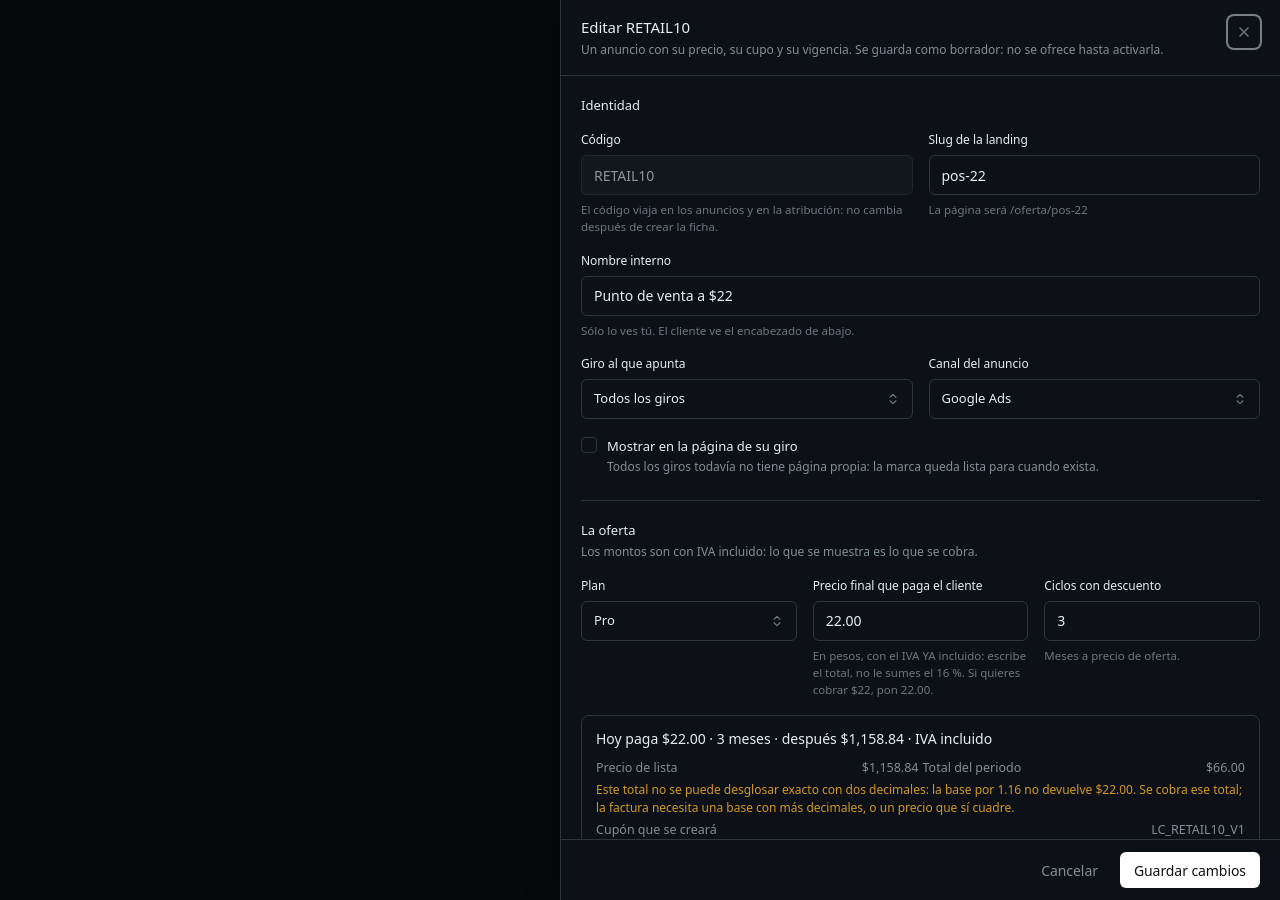
Test: LaunchCampaignEditor › no deja guardar por debajo del mínimo que Stripe cobra
Expected: the heading "Editar RETAIL10" is shown, [581, 17, 690, 37]
Type "5" into the field labelled "Precio final que paga el cliente" at (921, 621), box [813, 601, 1028, 641]
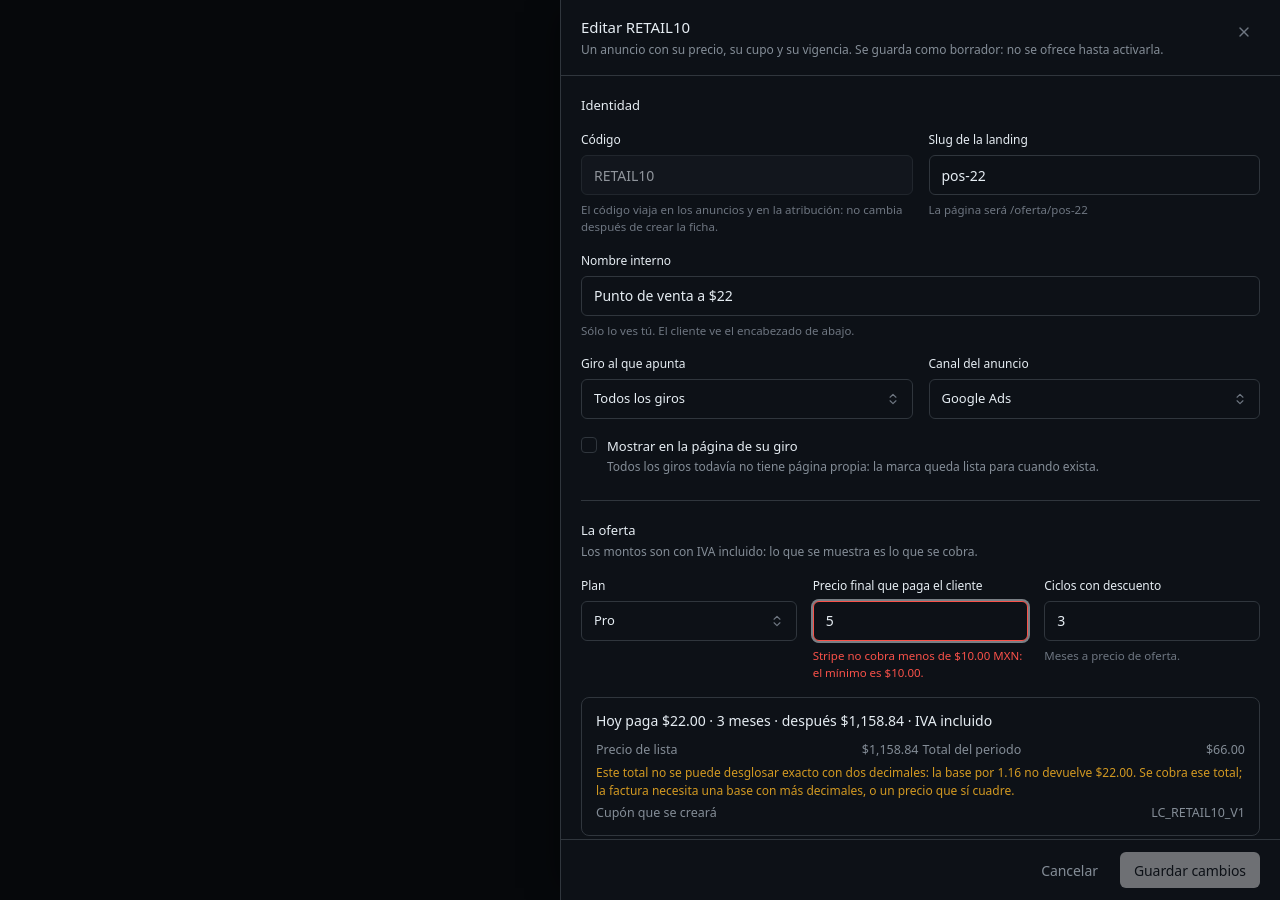
Now the button "Guardar cambios" is disabled, box [1120, 852, 1260, 888]
Now the text "Stripe no cobra menos de $10.00 MXN: el mínimo es $10.00." is shown, box [813, 647, 1028, 681]
